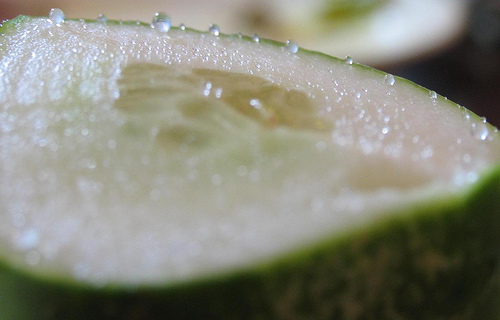cucumber: (0, 20, 499, 317)
